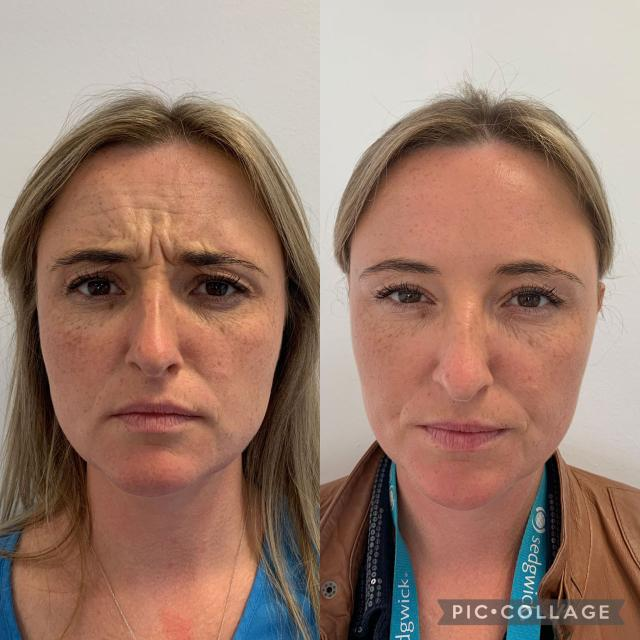forehead: (99, 196, 185, 222)
frown_line: (142, 225, 168, 275)
gummy_smile: (391, 402, 411, 442), (519, 400, 539, 436)
